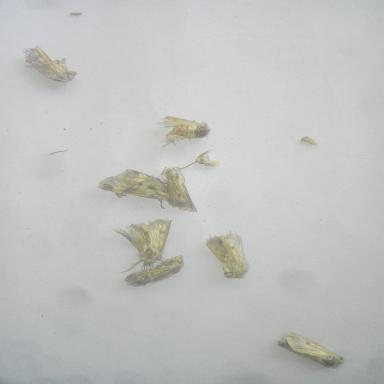abw: (107, 210, 176, 276), (93, 166, 181, 212), (273, 325, 349, 372), (121, 250, 194, 290), (201, 224, 250, 282), (19, 40, 82, 85), (157, 160, 204, 217), (152, 110, 218, 150)
